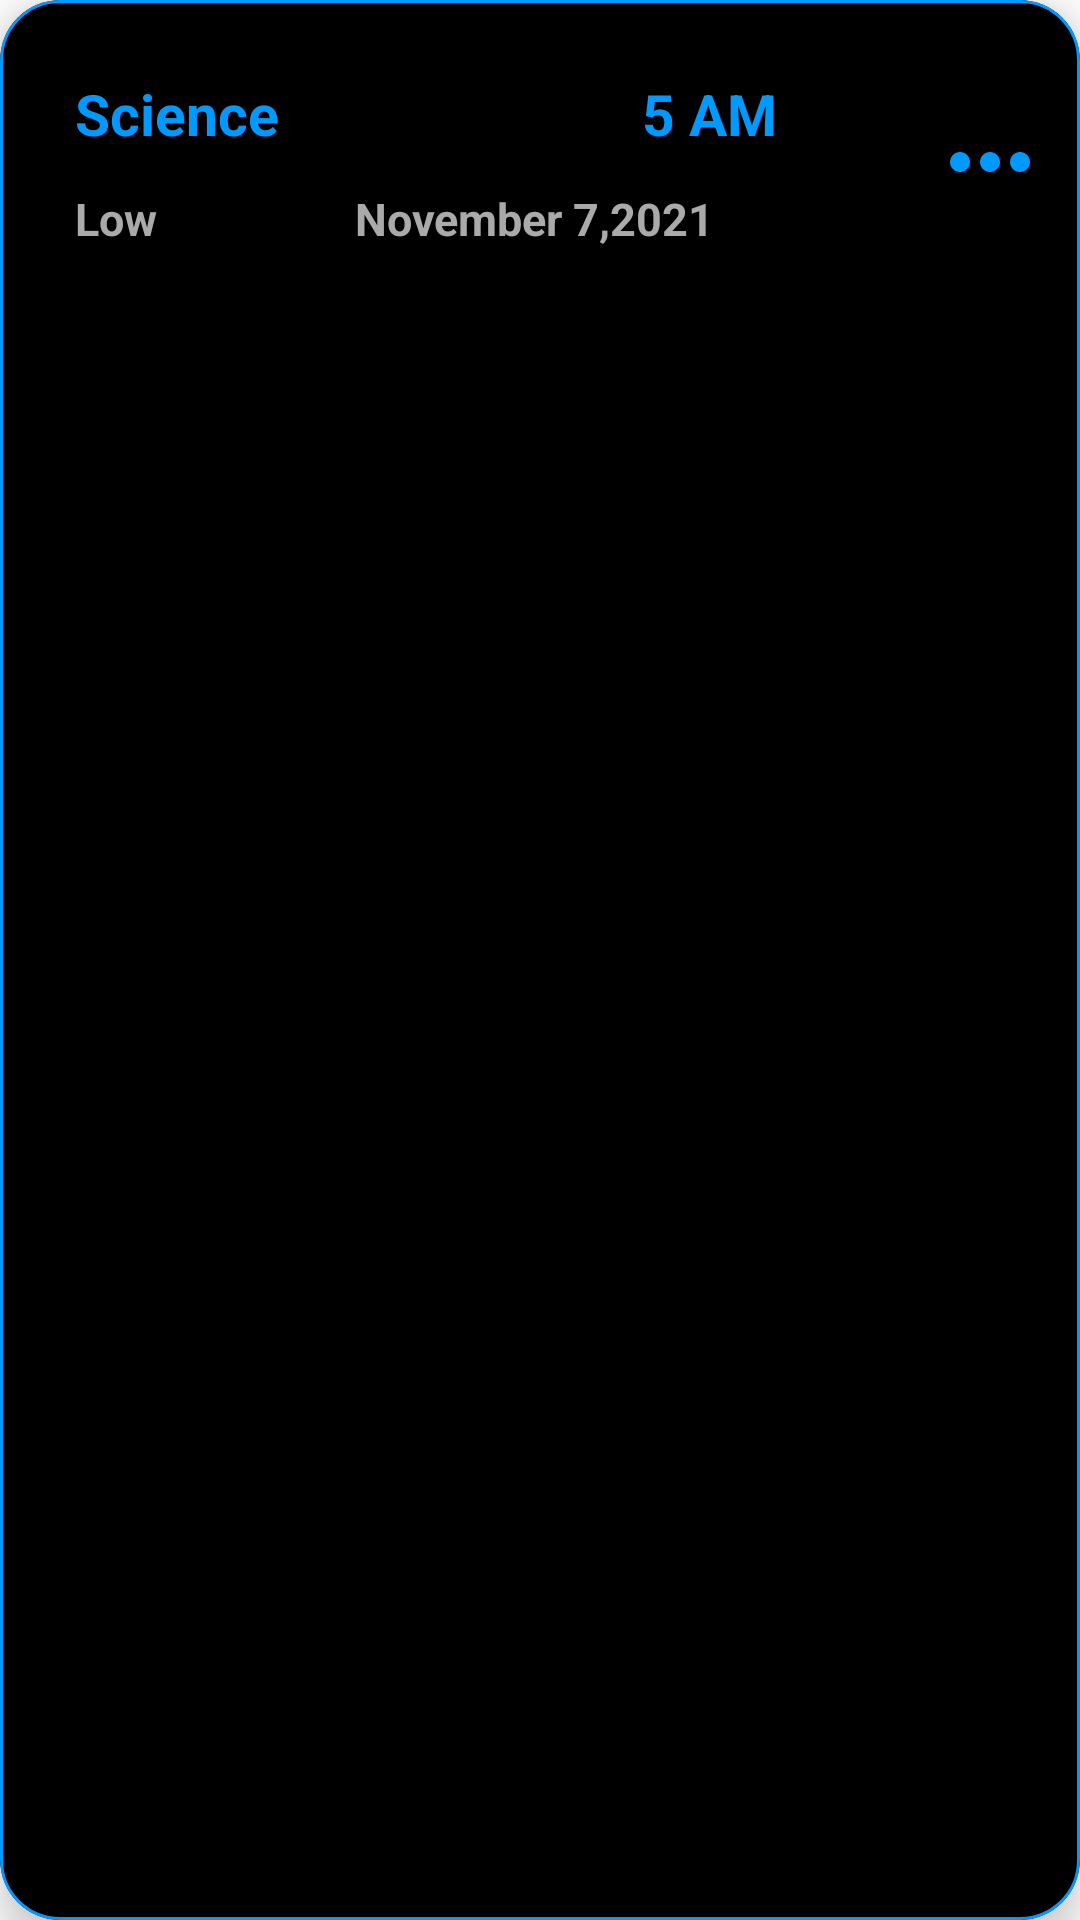

Where icons sit on this 1080*1920 app screen, as (x1, y1, x2, y2):
more: (950, 152, 1030, 172)
